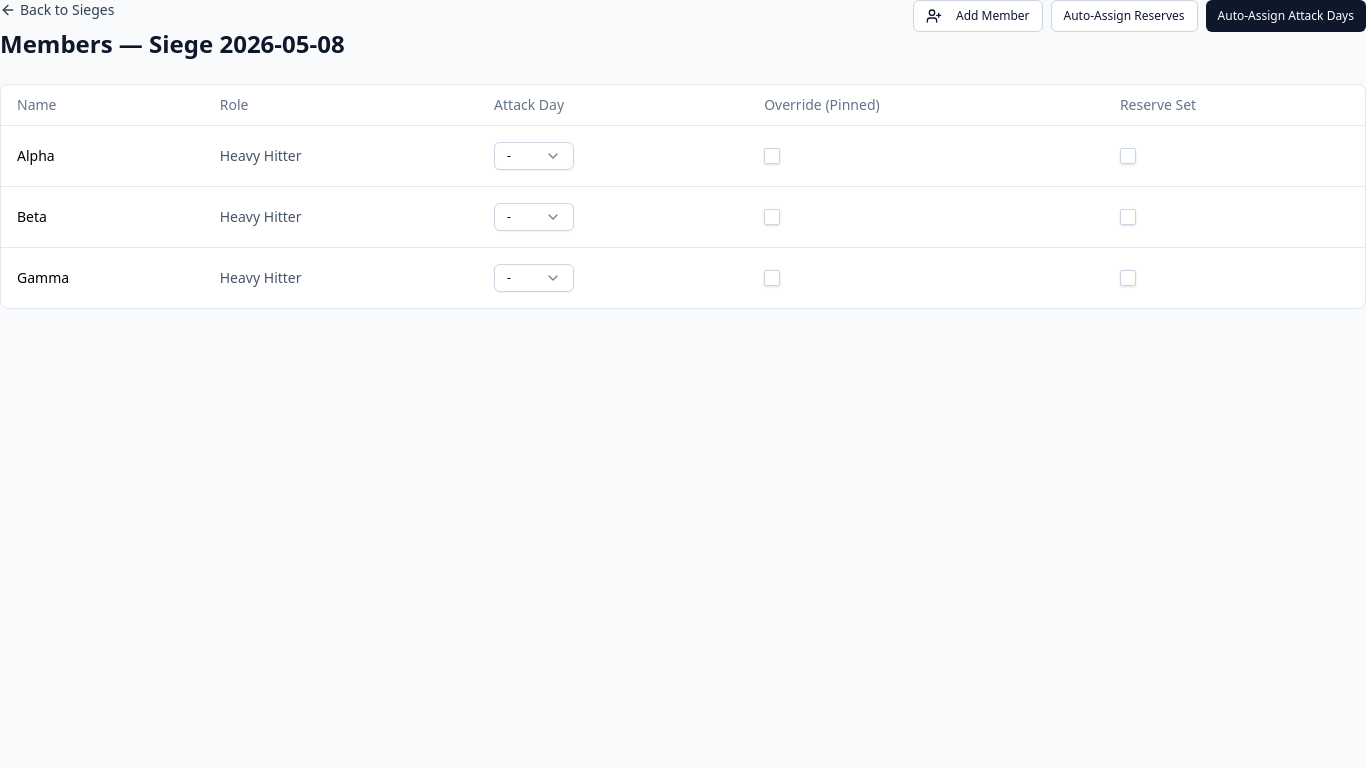
Test case: SiegeMembersPage — Attack Day Preview dialog (no empty cells) › column headers show assignment counts (Day 1 (N) / Day 2 (N))
Click the button "Auto-Assign Attack Days" at (1286, 16), box [1206,0,1365,32]
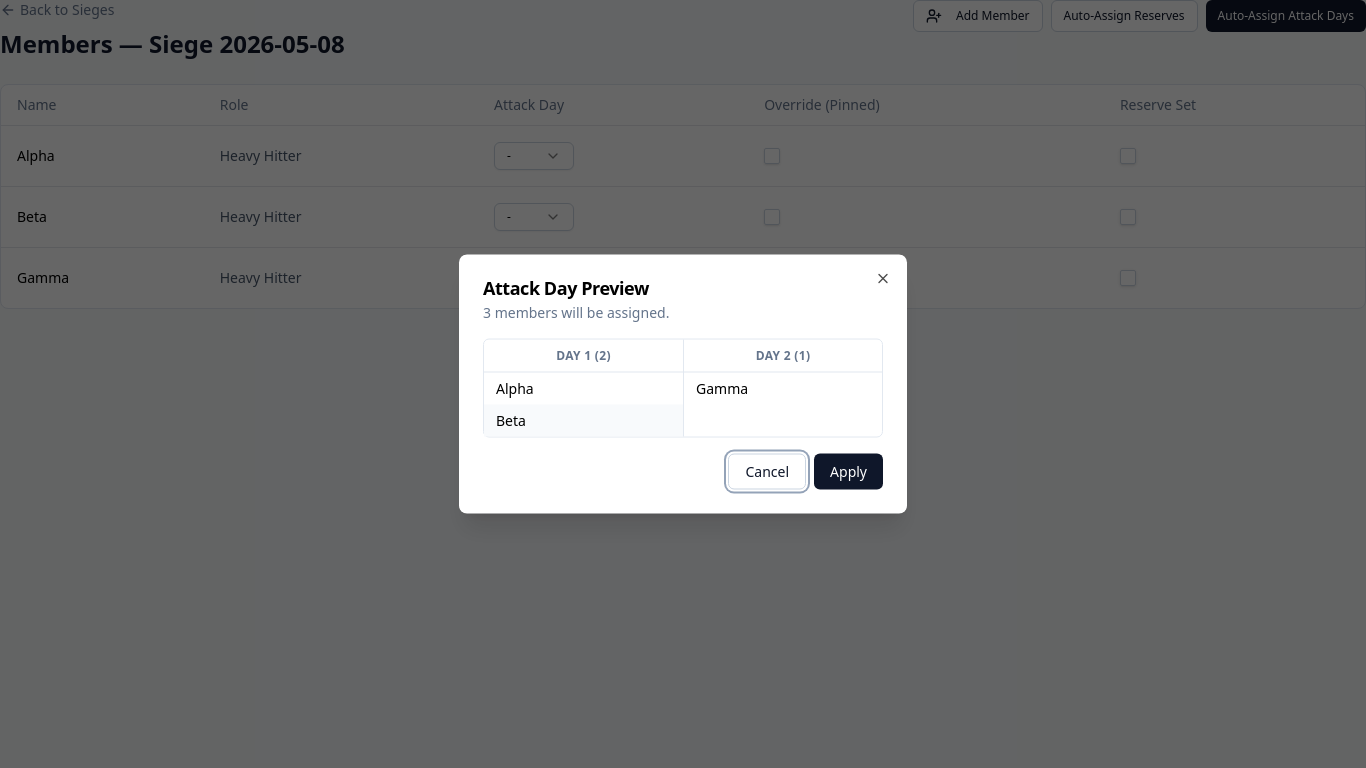
expect the heading "Attack Day Preview" is shown: met, box [483,276,649,300]
expect the text "Day 1 (2)" is shown: met, box [484,340,683,372]
expect the text "Day 2 (1)" is shown: met, box [684,340,882,372]
